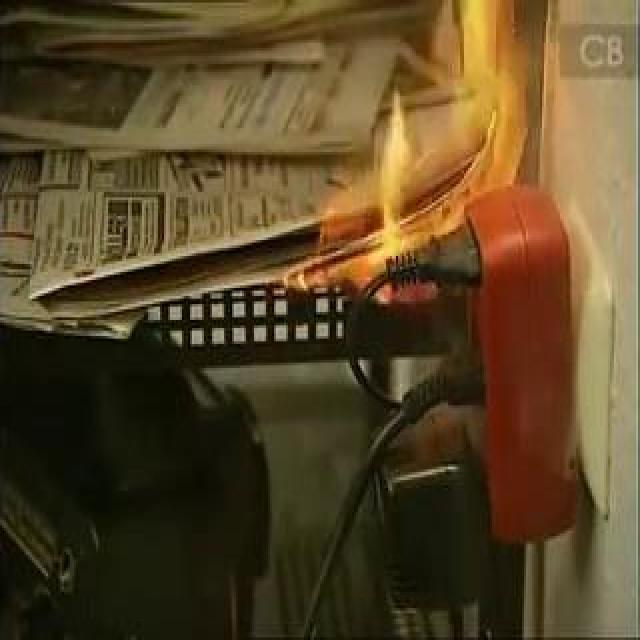Fire: (276, 39, 566, 337)
